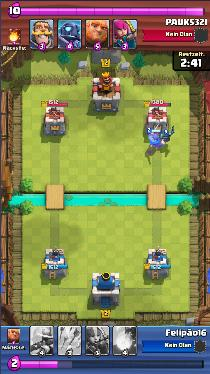ally_knight: (148, 134, 165, 147)
ally_mini_pekka: (163, 131, 170, 142)
